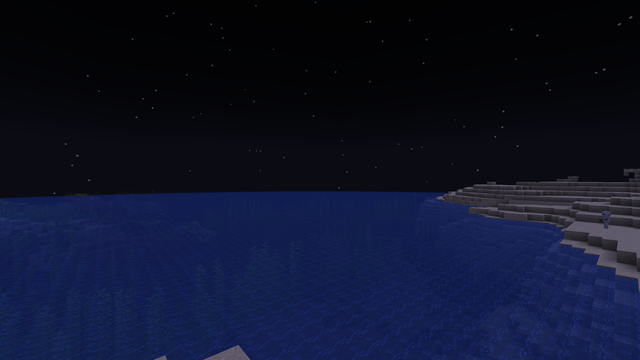squelettes: (602, 210, 610, 228)
